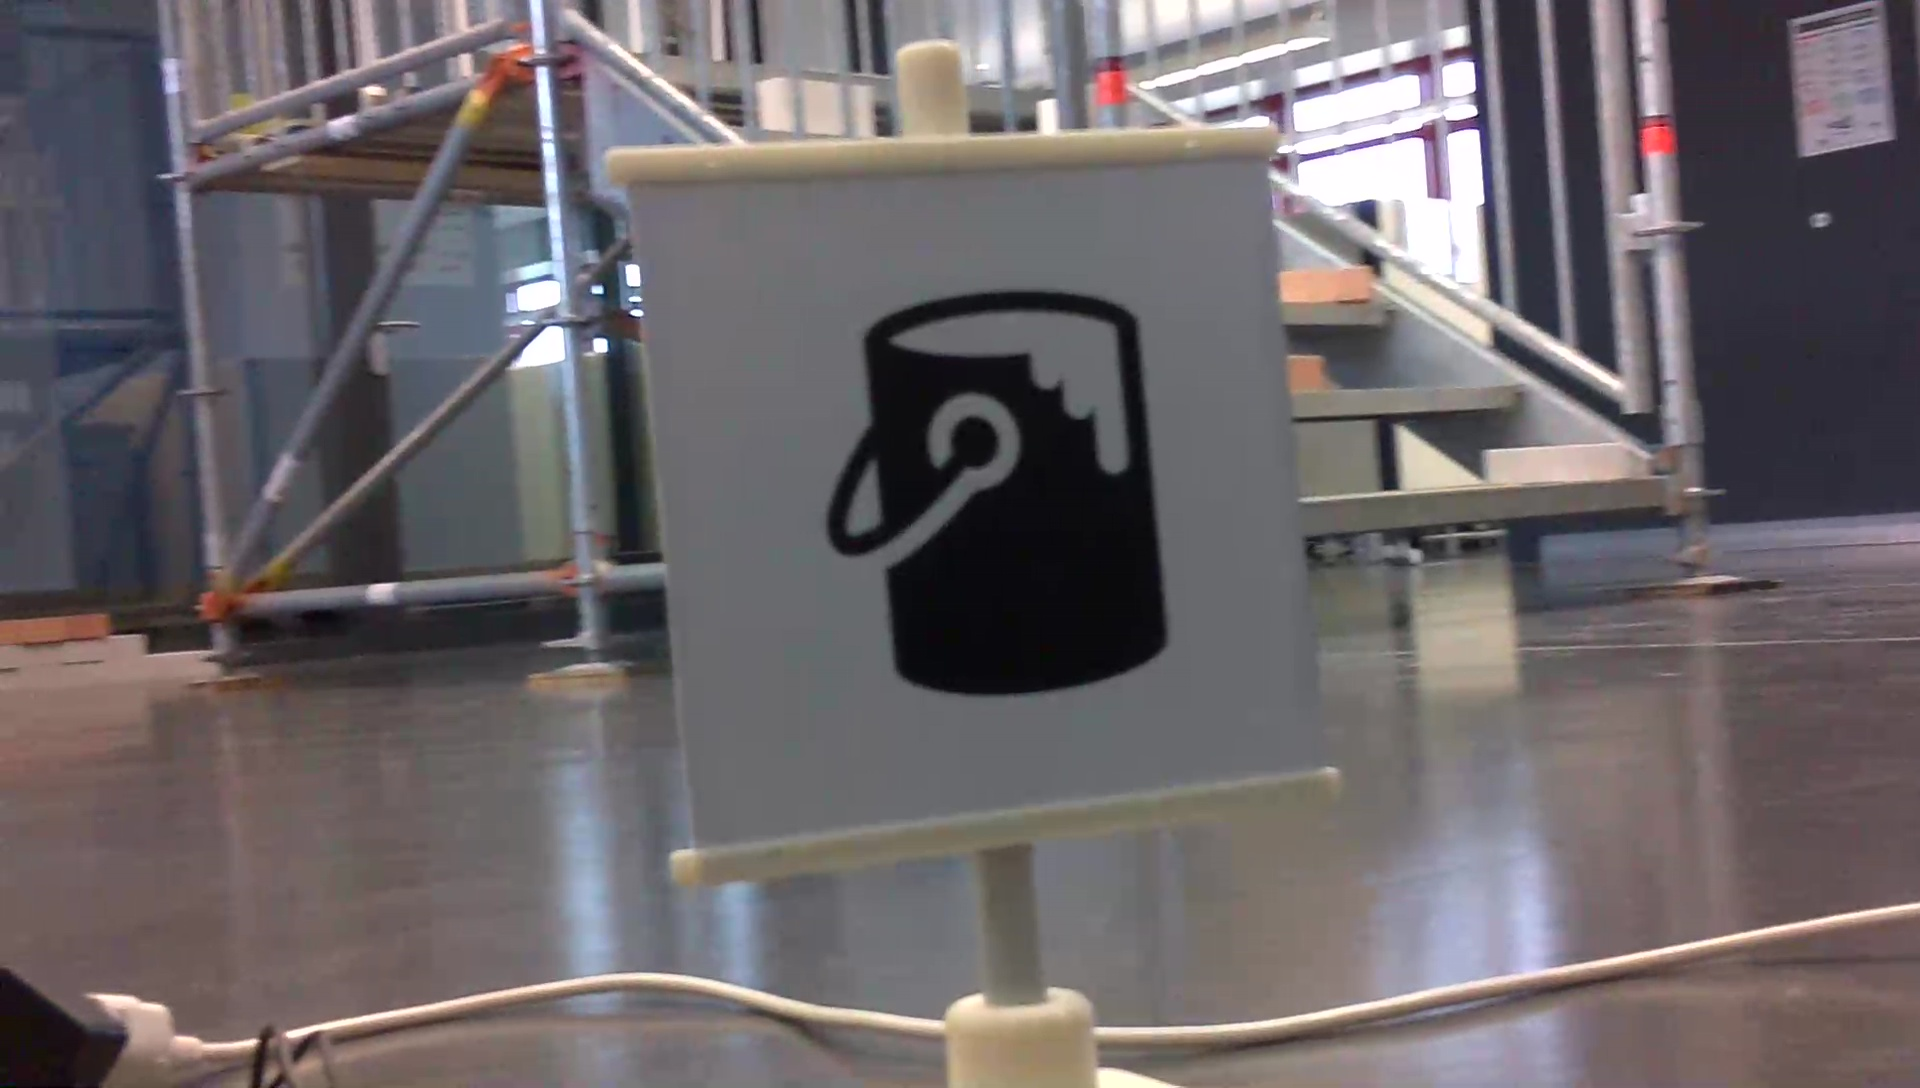brick: (1485, 443, 1621, 480), (1279, 268, 1370, 302), (1287, 355, 1320, 388)
bucket: (810, 273, 1185, 715)
edge: (1304, 477, 1664, 535), (1292, 386, 1527, 415)
